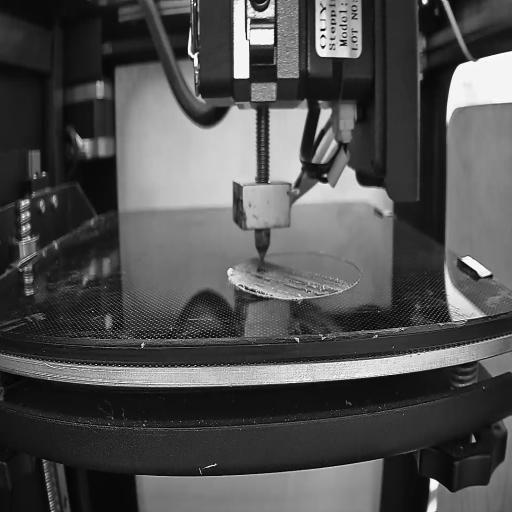under_extrusion: (283, 271, 343, 298), (238, 269, 273, 294)
